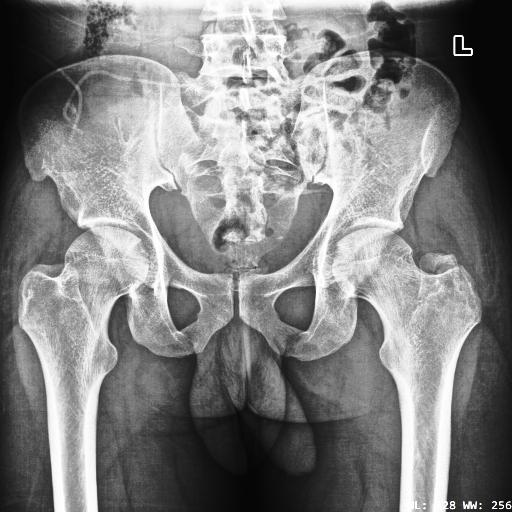normal: (332, 228, 482, 492), (18, 227, 149, 481)
